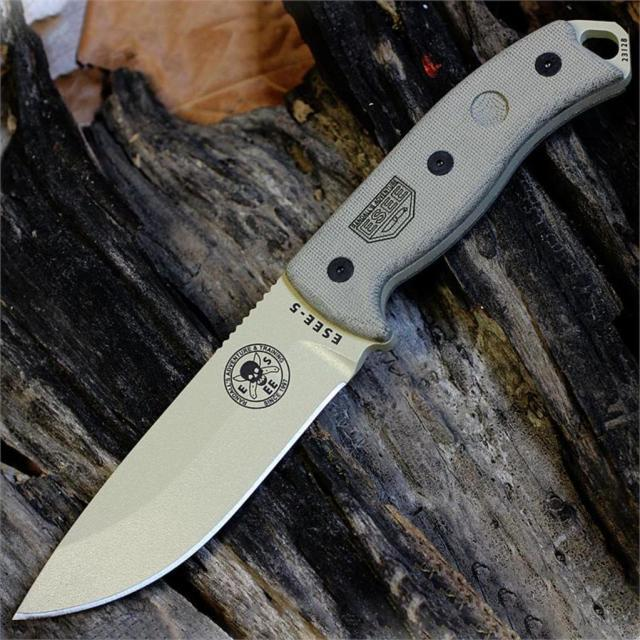Knife: (15, 22, 631, 618)
